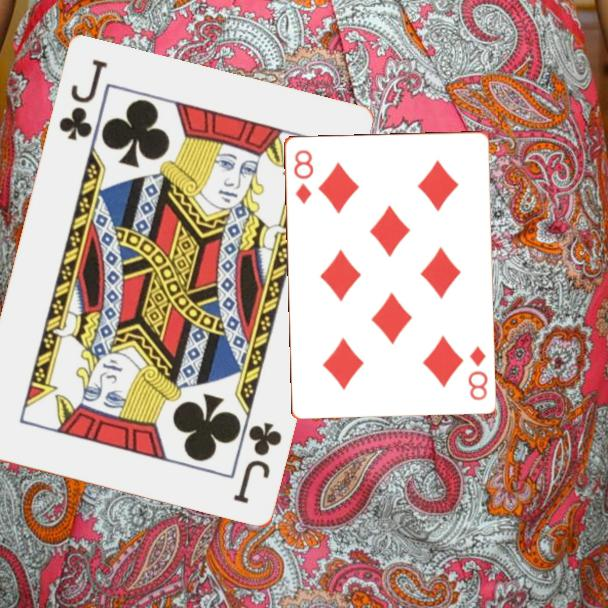c11: (55, 56, 111, 144), (230, 419, 285, 507)
d08: (464, 342, 491, 403), (290, 146, 316, 207)
